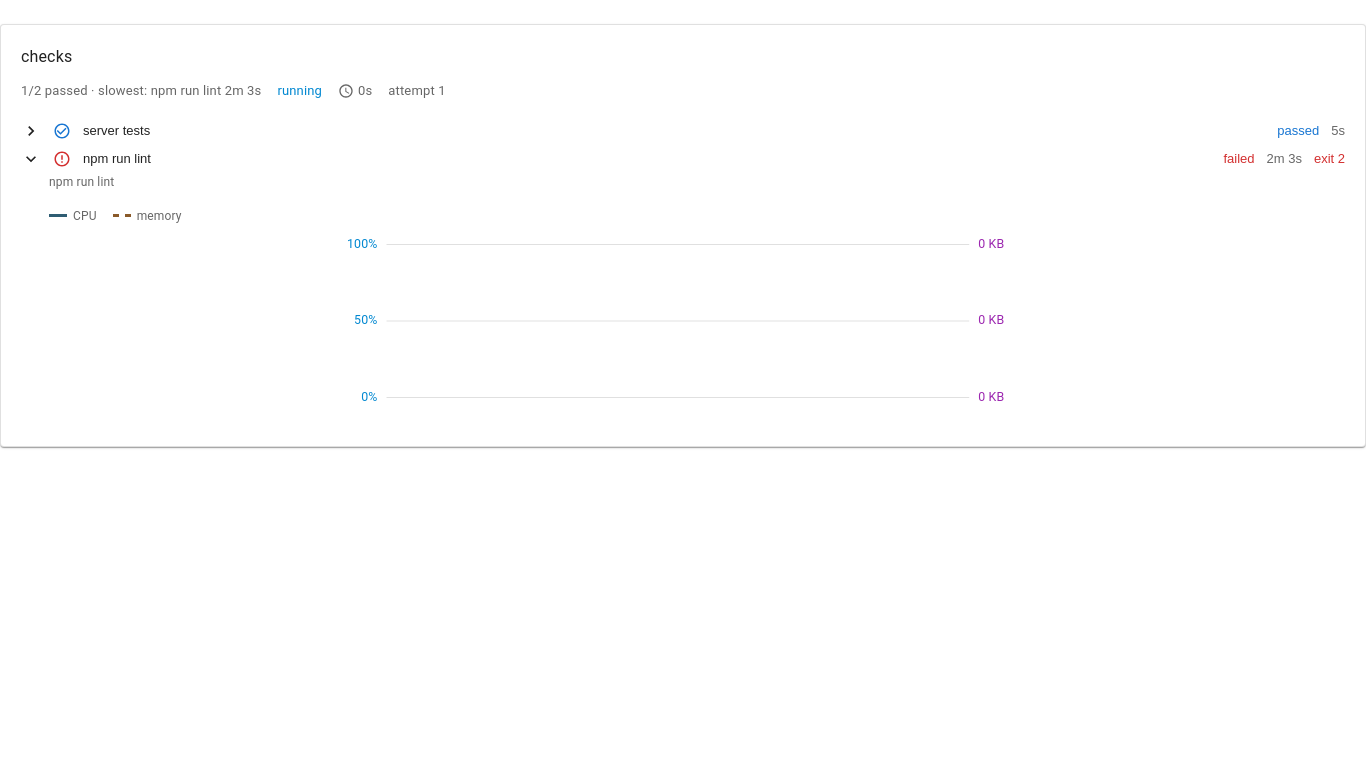
Test: StepDetail › the checks window › shows the name of a command and falls back to the command line when it has none
Expected: the button "npm run lint failed 2m 3s exit 2" is shown, x1=21 y1=144 x2=1345 y2=172
What coordinates should you click on to do the following:
click the button with aria-label "Show server tests"
I would click on:
 (117, 130)
Its box is x1=21 y1=116 x2=1345 y2=144.
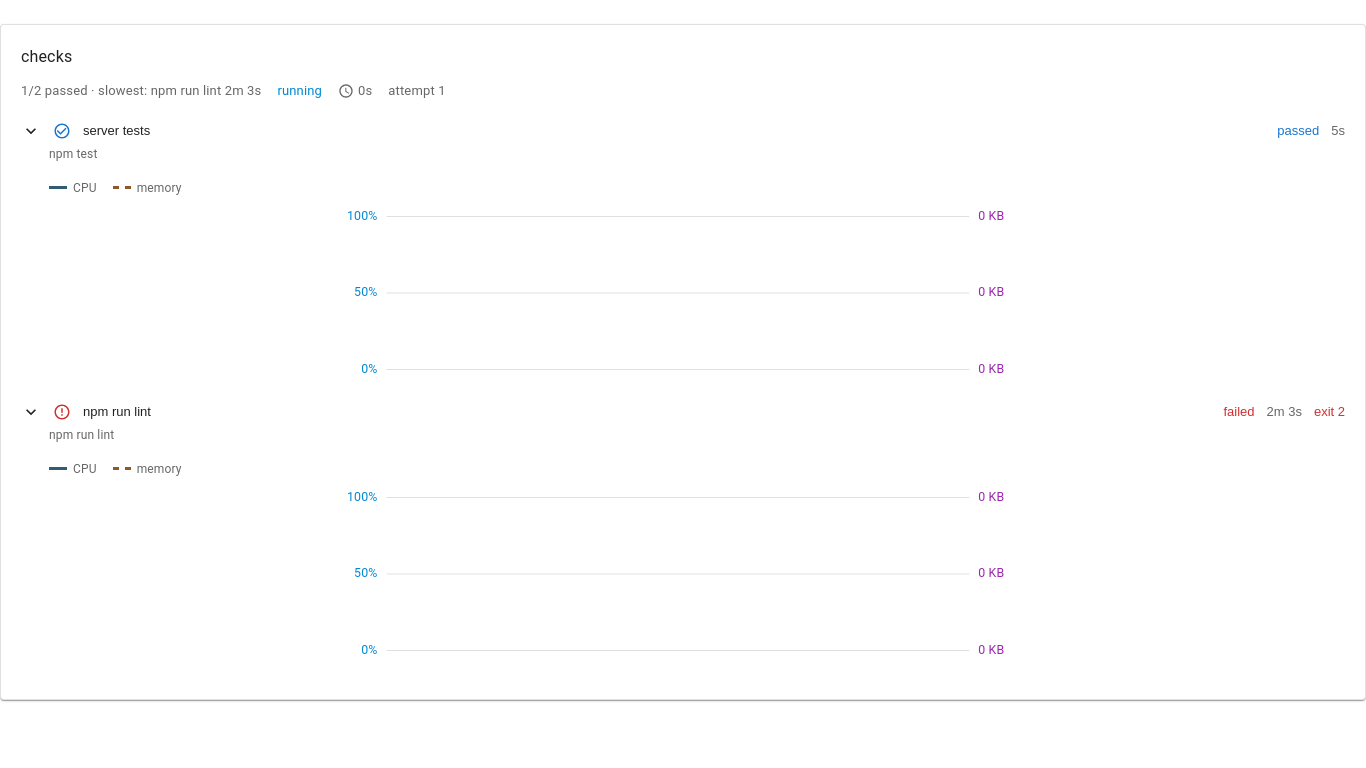
Now the text "npm test" is shown, box x1=49 y1=146 x2=98 y2=160
